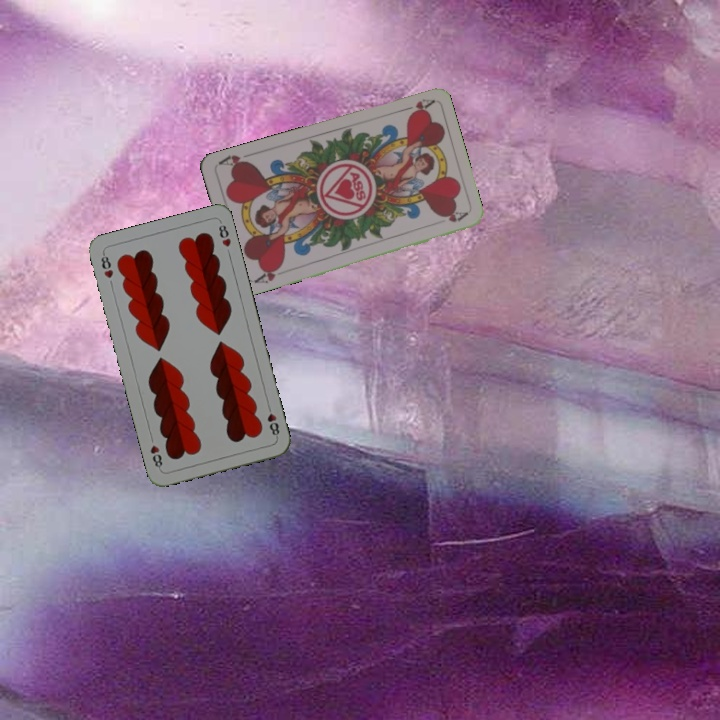H8: (263, 401, 282, 441), (97, 249, 116, 281)
HA: (250, 261, 289, 286), (395, 95, 435, 119)
